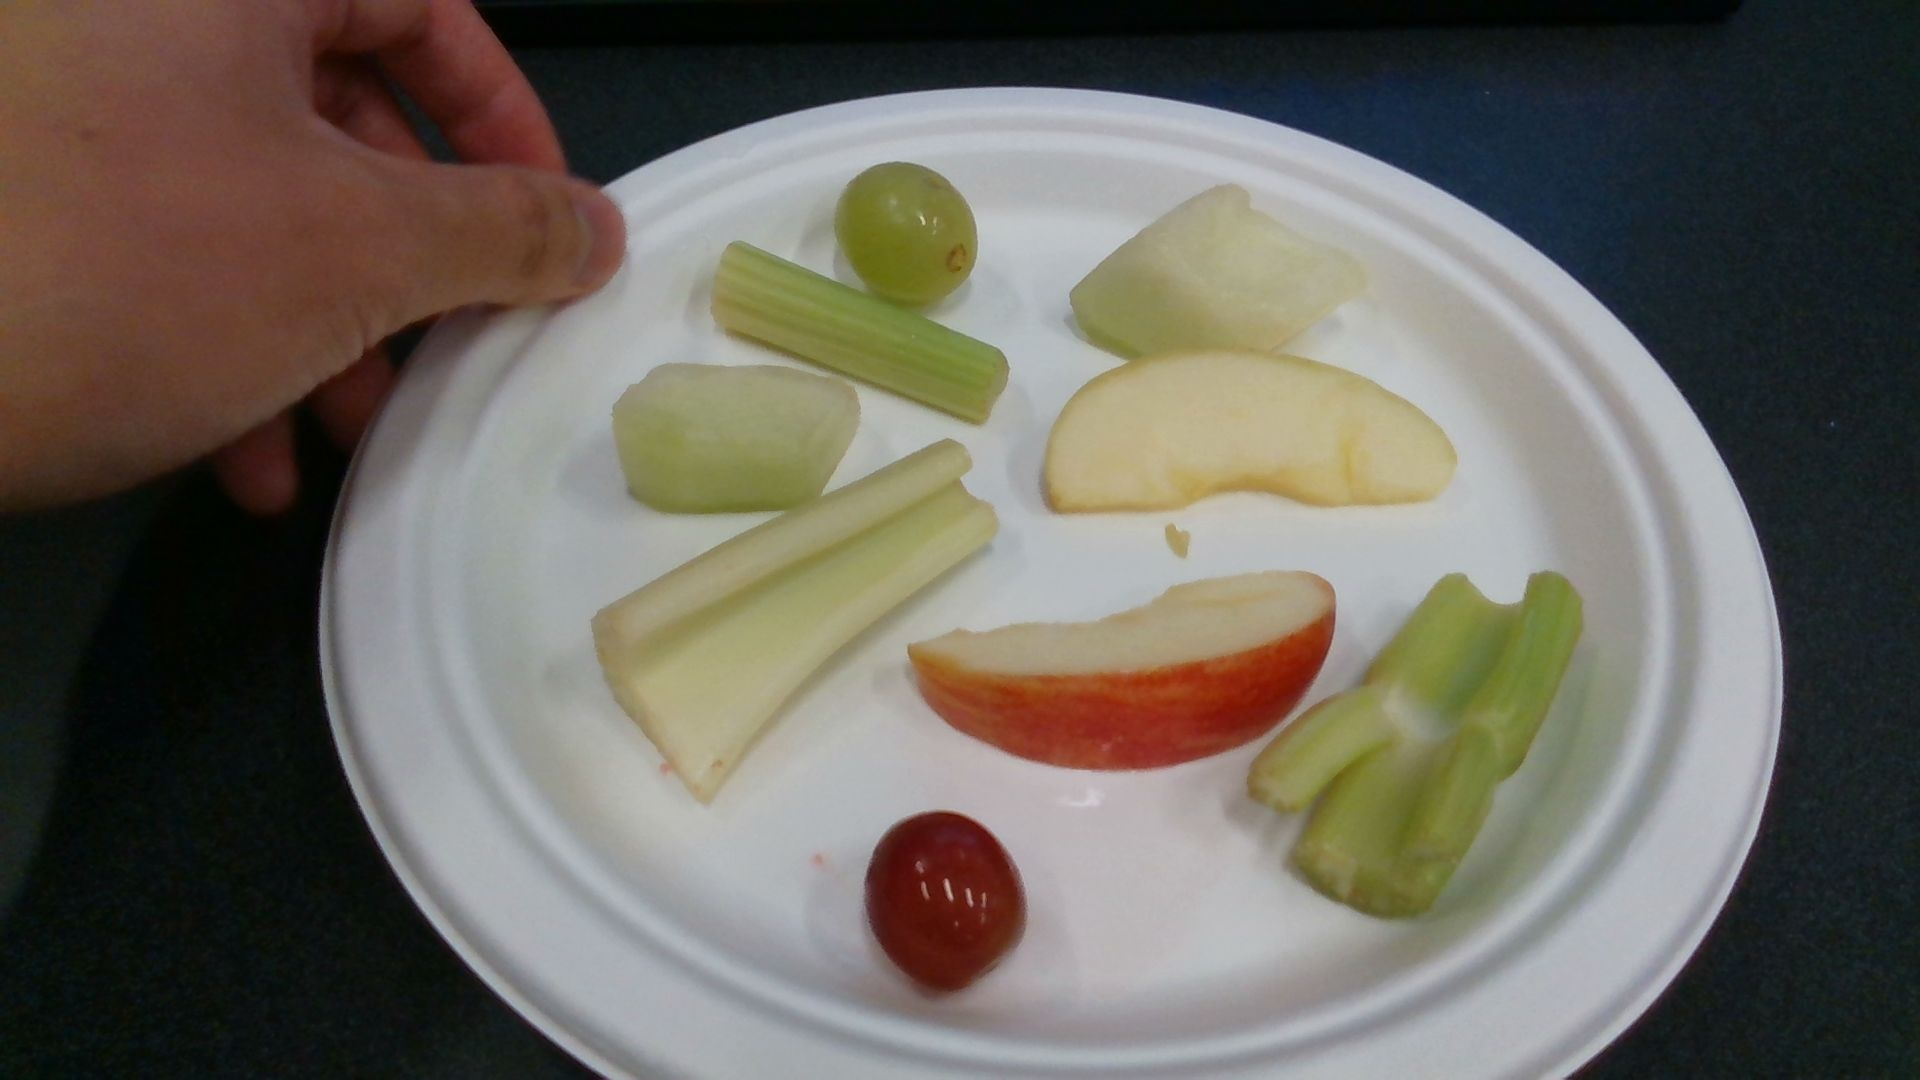apple: (907, 578, 1337, 767), (1044, 351, 1457, 510)
cantalope: (1069, 185, 1365, 355), (612, 363, 862, 506)
celery: (595, 440, 992, 798), (1250, 574, 1580, 913), (715, 241, 1010, 423)
grape_green: (835, 165, 977, 301)
grape_purple: (869, 815, 1025, 988)
